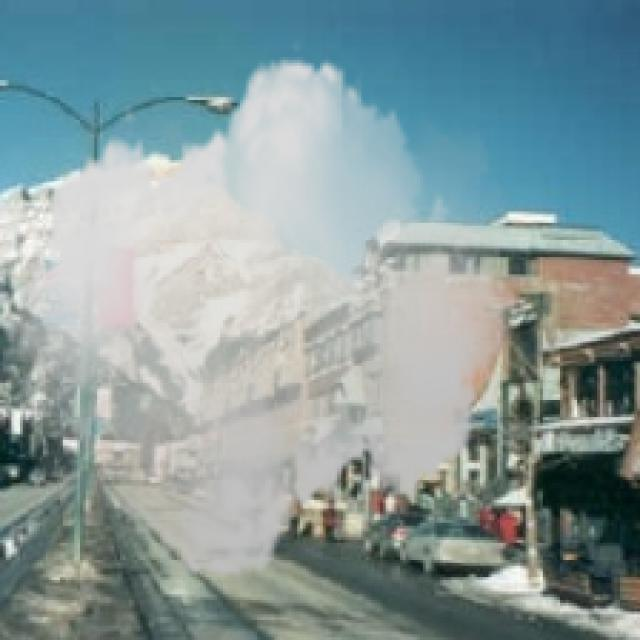smoke: (3, 37, 520, 600)
